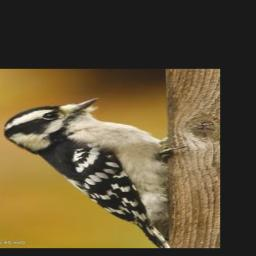Woodpecker: (2, 97, 183, 248)
